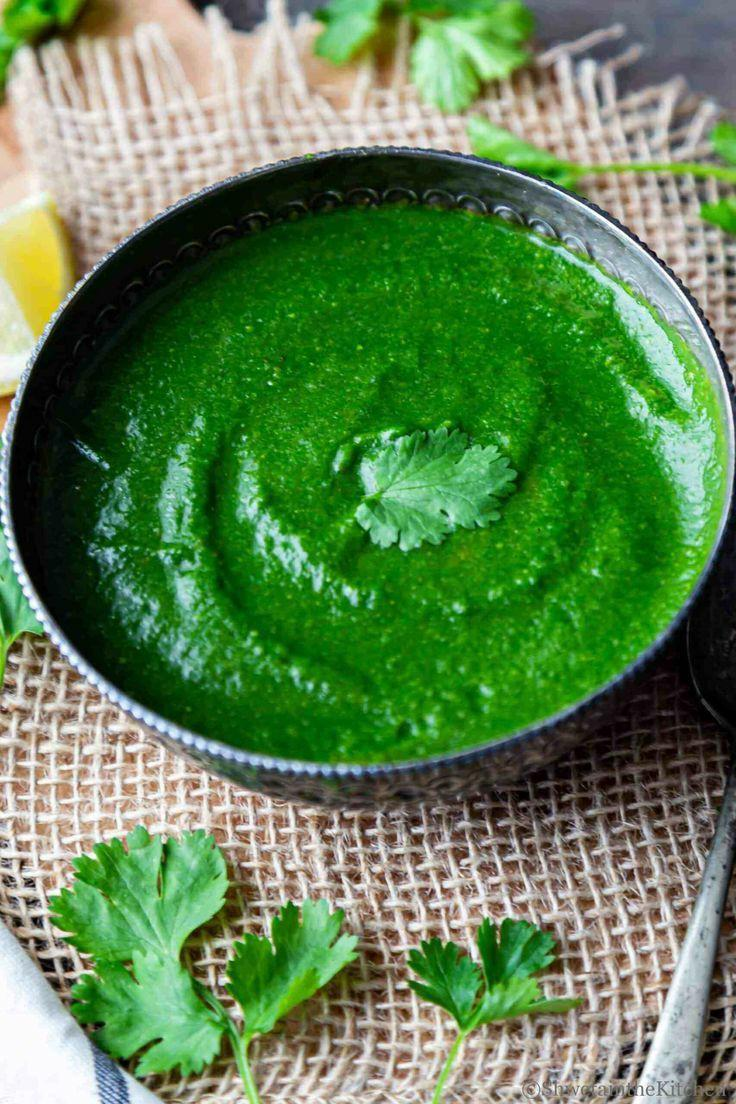GreenChutney: (33, 203, 721, 757)
